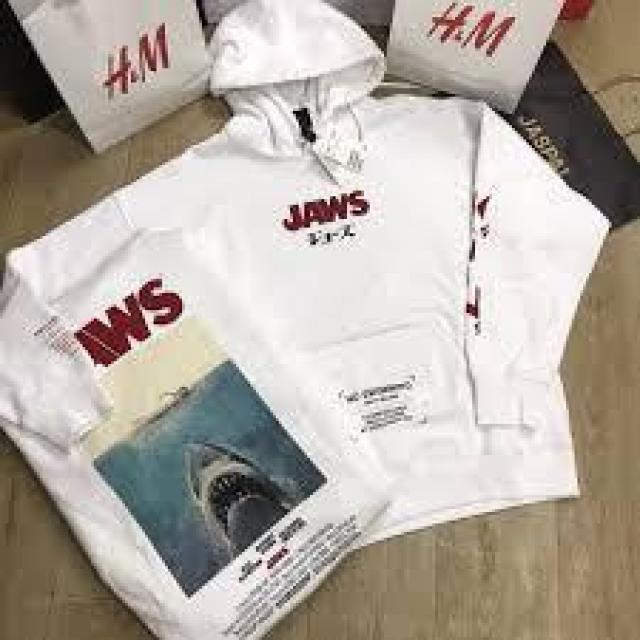sweater: (3, 4, 600, 514)
